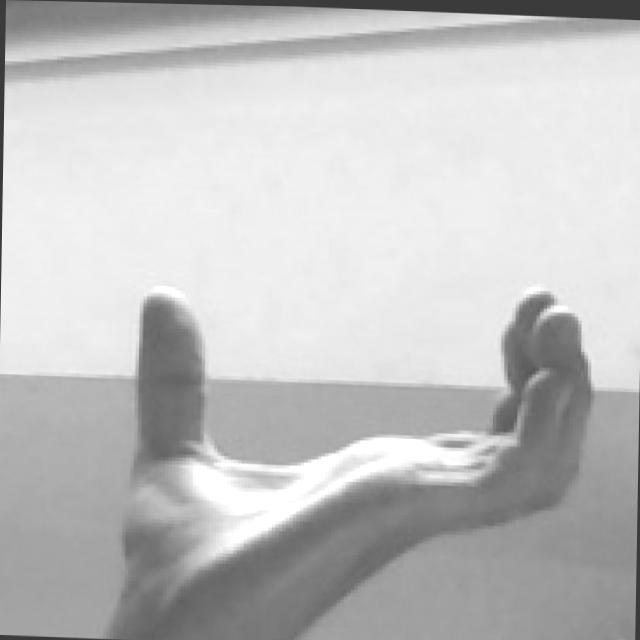space: (114, 256, 596, 616)
